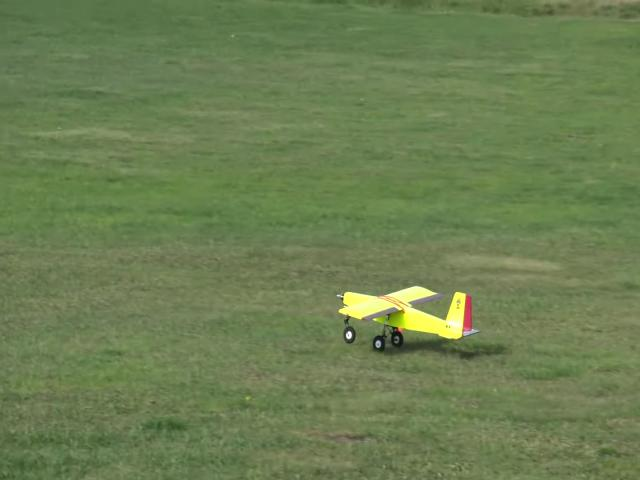plane: (337, 285, 482, 350)
